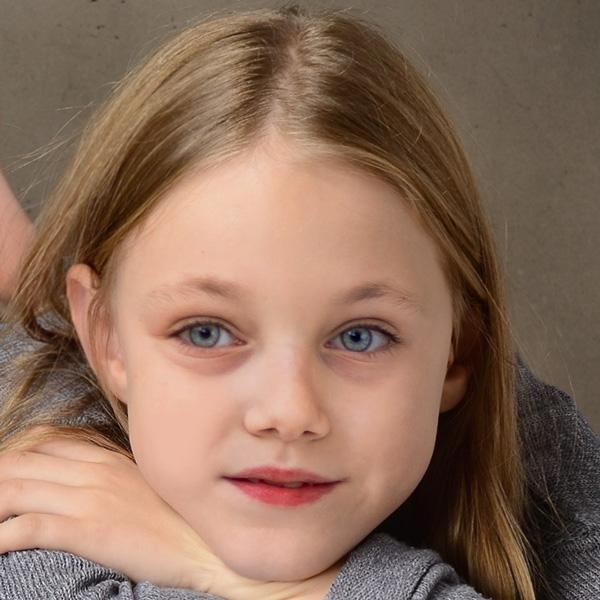Eyes: (319, 304, 411, 379), (159, 299, 252, 369)
